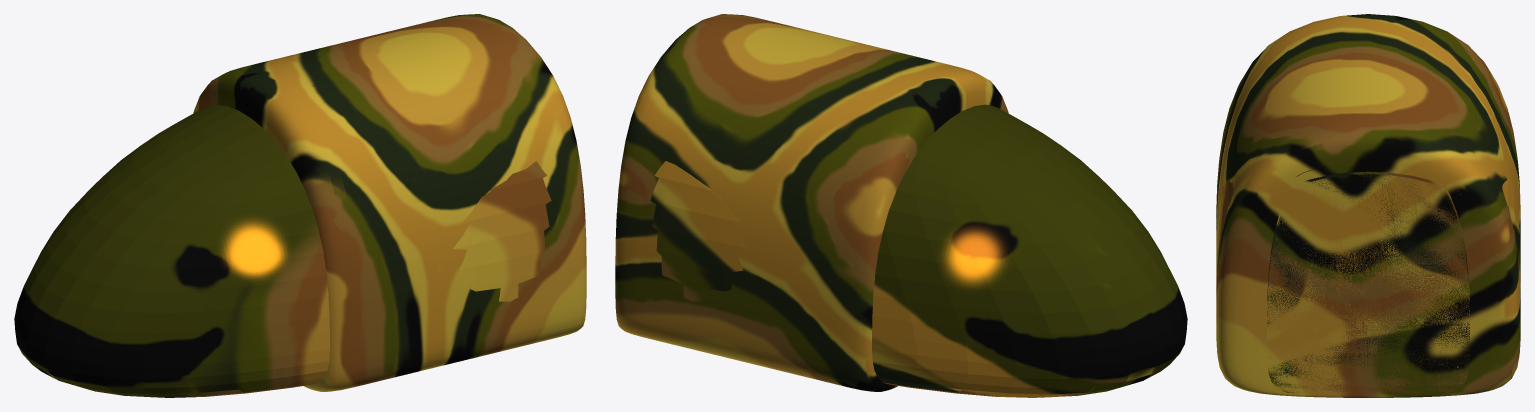
The model's file is pythonv3.glb.
3 renders of one model, left to right at view 1: azimuth 30°, elevation 25°; view 2: azimuth 150°, elevation 25°; view 3: azimuth 270°, elevation 25°, orthographic.
Parts seen in each view (by area): view 1: Pbod, Phead; view 2: Pbod, Phead; view 3: Pbod, Phead.
Boxes of the visible parts, bbox=[...] form: Pbod: bbox=[193, 14, 586, 391]; Phead: bbox=[14, 104, 551, 397]; Pbod: bbox=[615, 14, 1008, 391]; Phead: bbox=[650, 104, 1187, 397]; Pbod: bbox=[1216, 14, 1520, 397]; Phead: bbox=[1216, 164, 1520, 395].
Bounding box in the file's own units: 3.69 × 1.92 × 2.
Materials: 2 (2 with a texture image).
